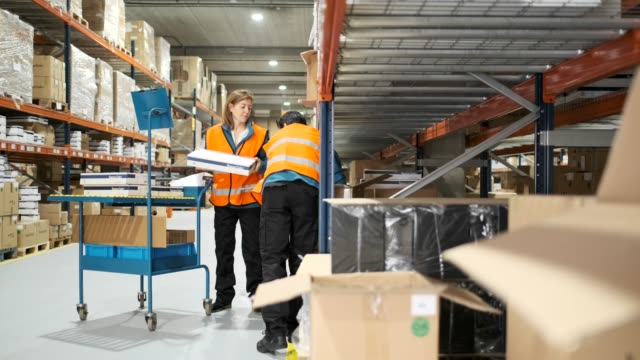noepi: (193, 86, 266, 315), (258, 110, 320, 360)
